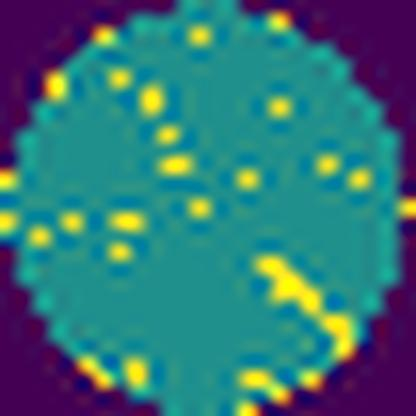Scratch: (251, 252, 358, 366)
